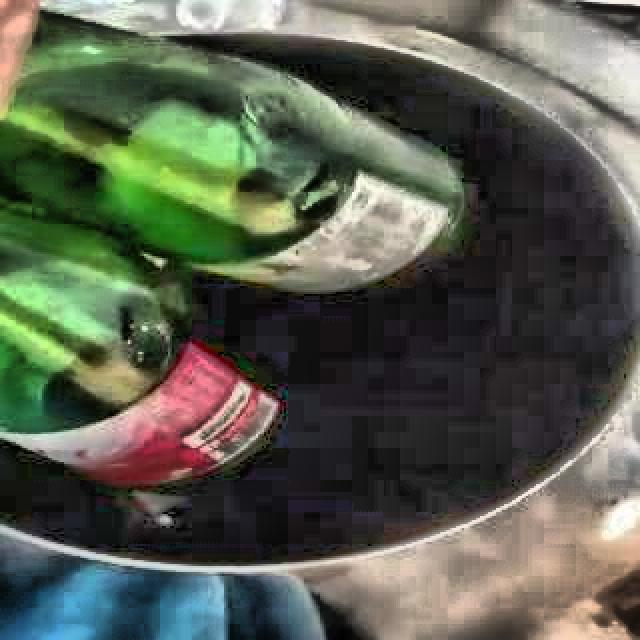glass: (0, 12, 464, 442)
